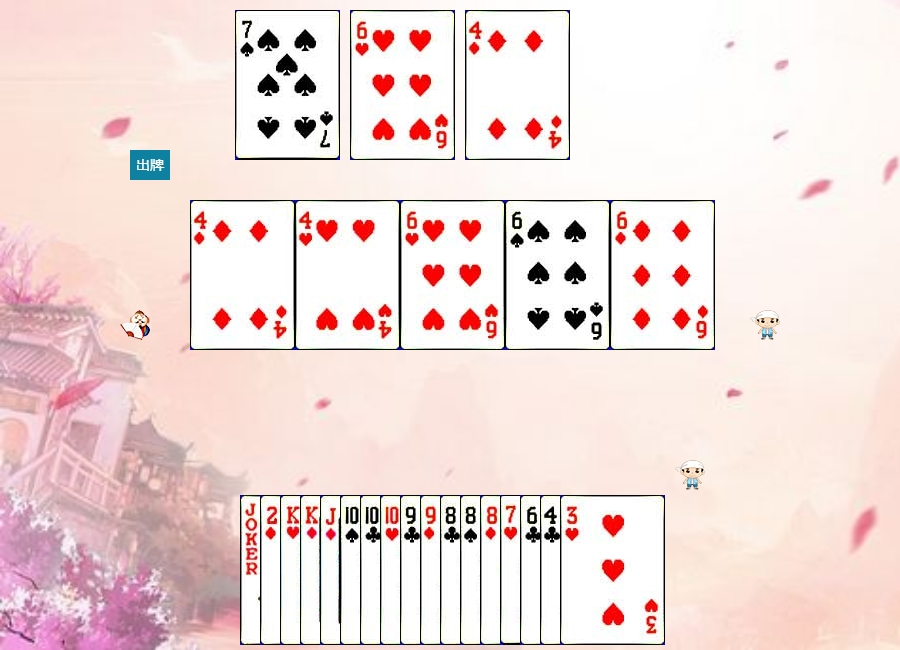10~2: (360, 495, 465, 645)
10~3: (380, 495, 485, 645)
10~4: (340, 495, 445, 645)
11~1: (320, 495, 425, 645)
13~1: (300, 495, 405, 645)
13~3: (280, 495, 385, 645)
15~1: (260, 495, 365, 645)
18~4: (240, 495, 345, 645)
3~3: (560, 495, 665, 645)
4~1: (465, 10, 570, 160), (190, 200, 295, 350)
4~2: (540, 495, 645, 645)
4~3: (295, 200, 400, 350)
6~1: (610, 200, 715, 350)
6~2: (520, 495, 625, 645)
6~3: (350, 10, 455, 160), (400, 200, 505, 350)
6~4: (505, 200, 610, 350)
7~3: (500, 495, 605, 645)
7~4: (235, 10, 340, 160)
8~1: (480, 495, 585, 645)
8~2: (440, 495, 545, 645)
8~4: (460, 495, 565, 645)
9~1: (420, 495, 525, 645)
9~2: (400, 495, 505, 645)
